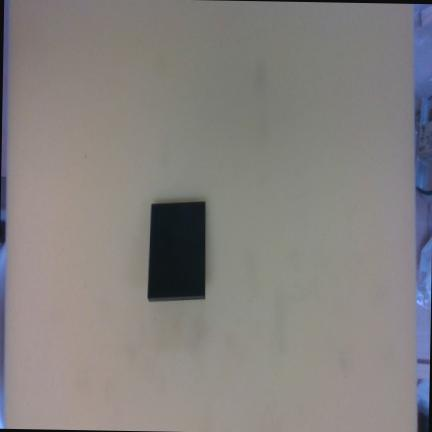tile: (147, 199, 205, 300)
